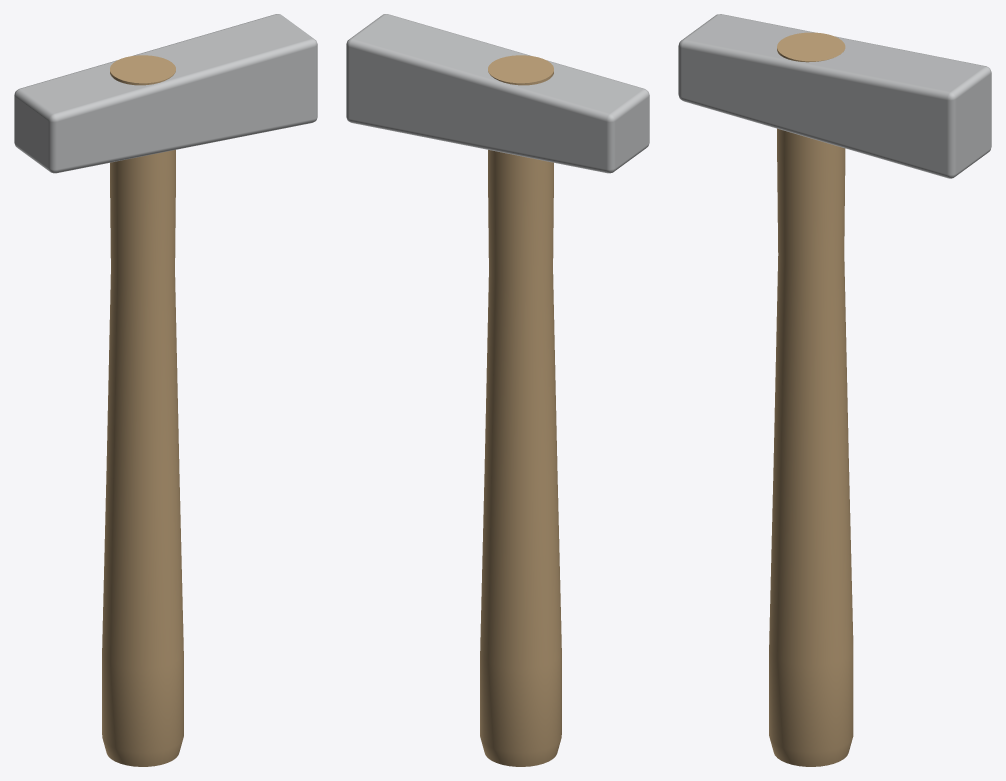
The model's file is hammer.glb.
The picture shows the model from 3 angles, left to right: view 1: azimuth 30°, elevation 25°; view 2: azimuth 150°, elevation 25°; view 3: azimuth 330°, elevation 25°; orthographic projection. The views are drawn at different scales.
Parts seen in each view (by area): view 1: Handle, Head; view 2: Handle, Head; view 3: Handle, Head.
Part boxes in pixels (x1=…): Handle: x1=102, y1=55, x2=183, y2=766; Head: x1=14, y1=14, x2=317, y2=173; Handle: x1=480, y1=55, x2=561, y2=766; Head: x1=346, y1=14, x2=649, y2=173; Handle: x1=769, y1=32, x2=853, y2=766; Head: x1=678, y1=14, x2=991, y2=178.
Bounding box in the file's own units: 0.14 × 0.3429 × 0.037.
